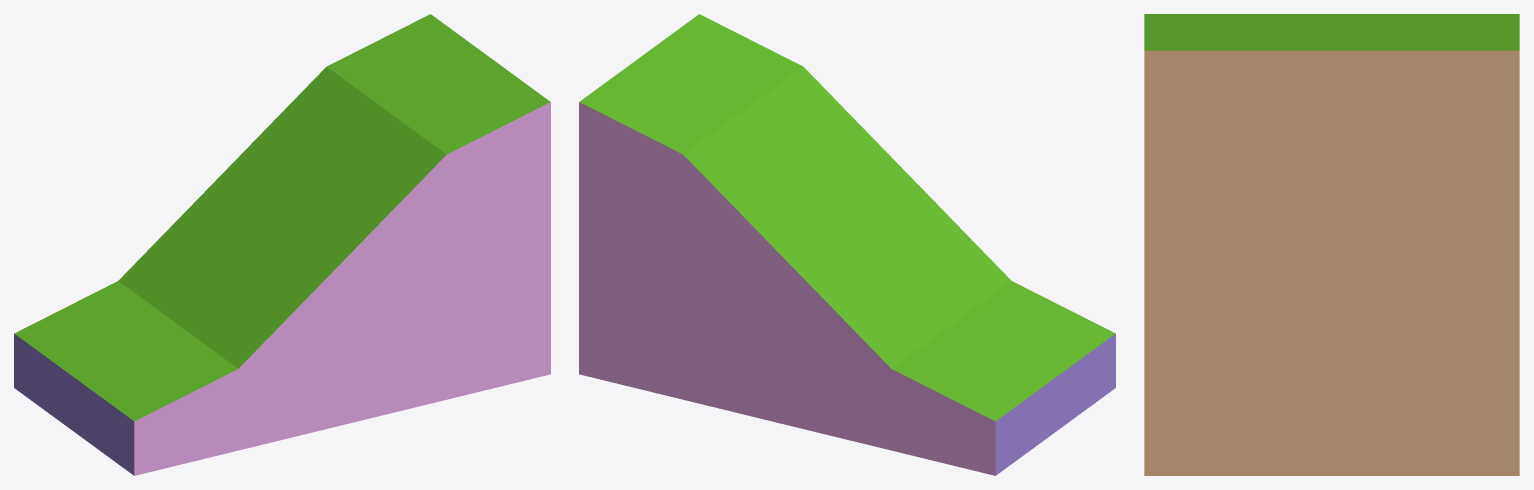
File: Grass_Hill_Sharp_Straight_1x2.glb
The picture shows the model from 3 angles, left to right: view 1: azimuth 30°, elevation 25°; view 2: azimuth 150°, elevation 25°; view 3: azimuth 270°, elevation 25°; orthographic projection. The views are drawn at different scales.
Visible parts, largest first — view 1: Grass_Hill_Sharp_Straight_1x2; view 2: Grass_Hill_Sharp_Straight_1x2; view 3: Grass_Hill_Sharp_Straight_1x2.
Part boxes in pixels (box(x1,y1,x2,y2)): Grass_Hill_Sharp_Straight_1x2: box(14, 14, 550, 475); Grass_Hill_Sharp_Straight_1x2: box(579, 14, 1115, 475); Grass_Hill_Sharp_Straight_1x2: box(1144, 14, 1519, 475).
Size of the model in its own units: 200 by 125 by 100.
